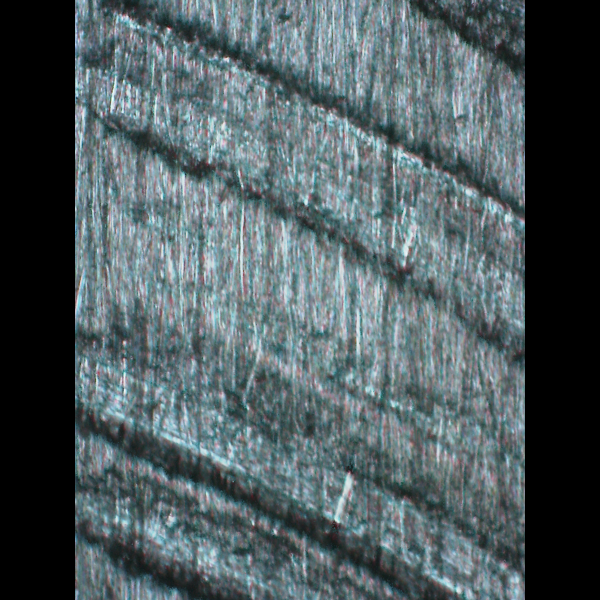d: (75, 0, 519, 367), (79, 341, 524, 595)
